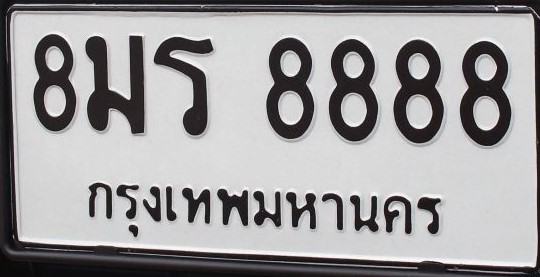num8: (30, 31, 79, 134)
txt28: (81, 31, 151, 138)
txt30: (151, 33, 217, 139)
